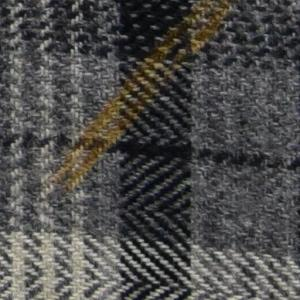Oil Stain: (37, 1, 244, 199)
